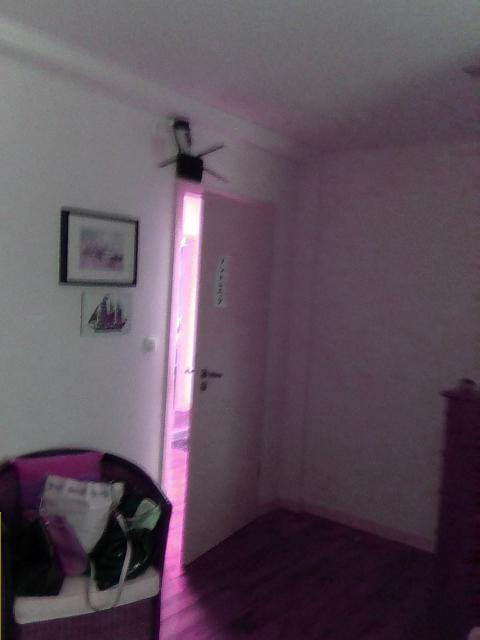semi_door: (157, 173, 281, 576)
